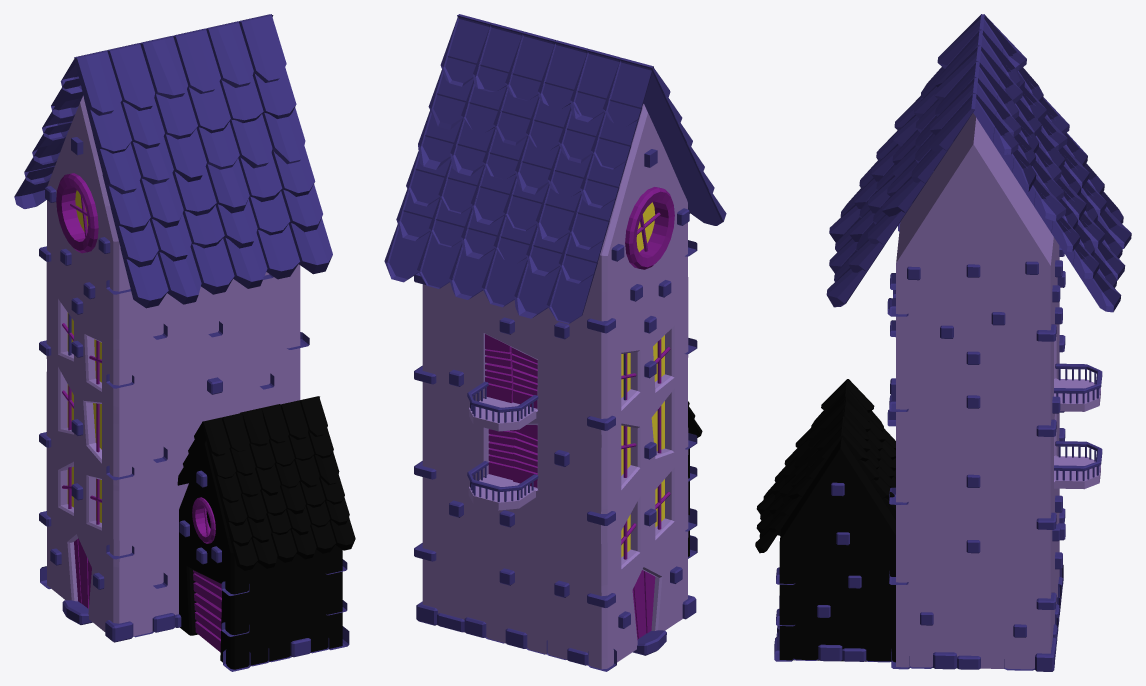
Rendered from housecolored.fbx.
3 renders of one model, left to right at view 1: azimuth 30°, elevation 25°; view 2: azimuth 150°, elevation 25°; view 3: azimuth 270°, elevation 25°, orthographic. The views are drawn at different scales.
Parts seen in each view (by area): view 1: pPipe2; view 2: pPipe2; view 3: pPipe2.
Part boxes in pixels (x1,y1,x2,y2): pPipe2: [14, 14, 355, 671]; pPipe2: [384, 14, 726, 671]; pPipe2: [755, 14, 1131, 671].
Bounding box in the file's own units: 3166 × 8291 × 4982.
